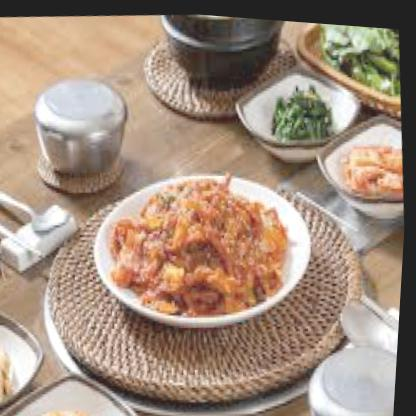Kimchi stew: (340, 123, 408, 204)
Seasoned bean sprouts: (14, 394, 128, 415)
jeyuk bokkeum: (106, 165, 298, 320)
spinach greens: (269, 74, 340, 150)
